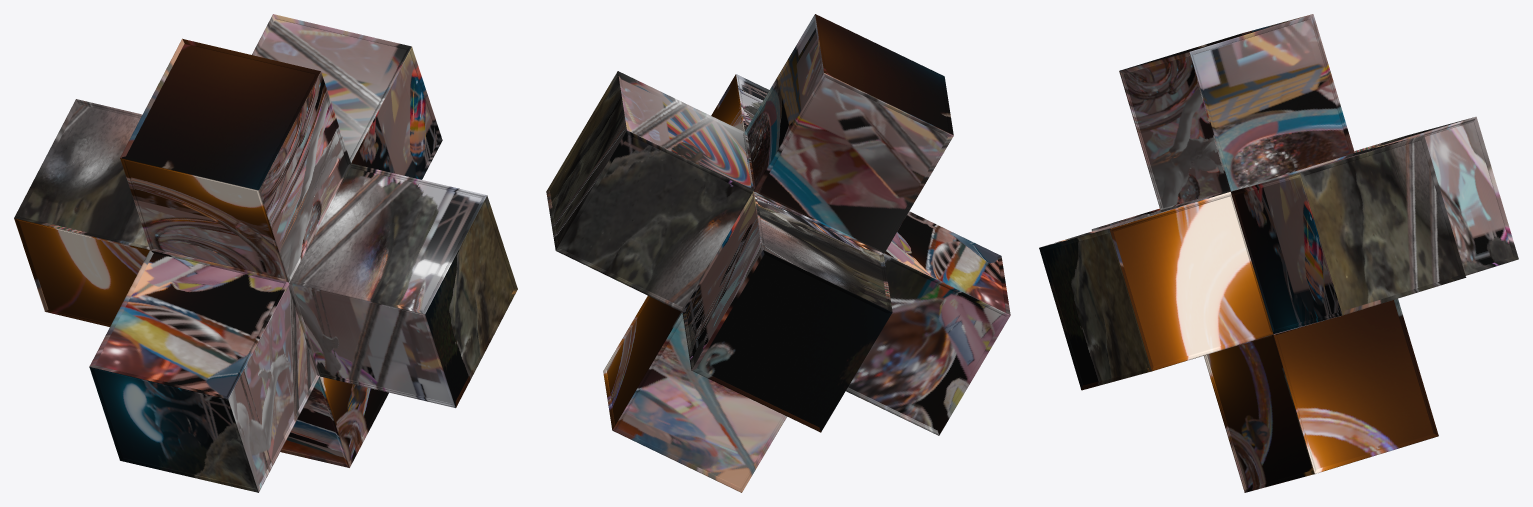
The model's file is hypercube.glb.
3 renders of one model, left to right at view 1: azimuth 30°, elevation 25°; view 2: azimuth 150°, elevation 25°; view 3: azimuth 270°, elevation 25°, orthographic. The views are drawn at different scales.
Parts seen in each view (by area): view 1: Cube.006; view 2: Cube.006; view 3: Cube.006.
Part boxes in pixels (x1,y1,x2,y2): Cube.006: (14,14,517,492); Cube.006: (546,14,1010,492); Cube.006: (1039,14,1518,492).
Size of the model in its own units: 0.9735 by 0.9659 by 1.01.
1 material, 1 textured.
